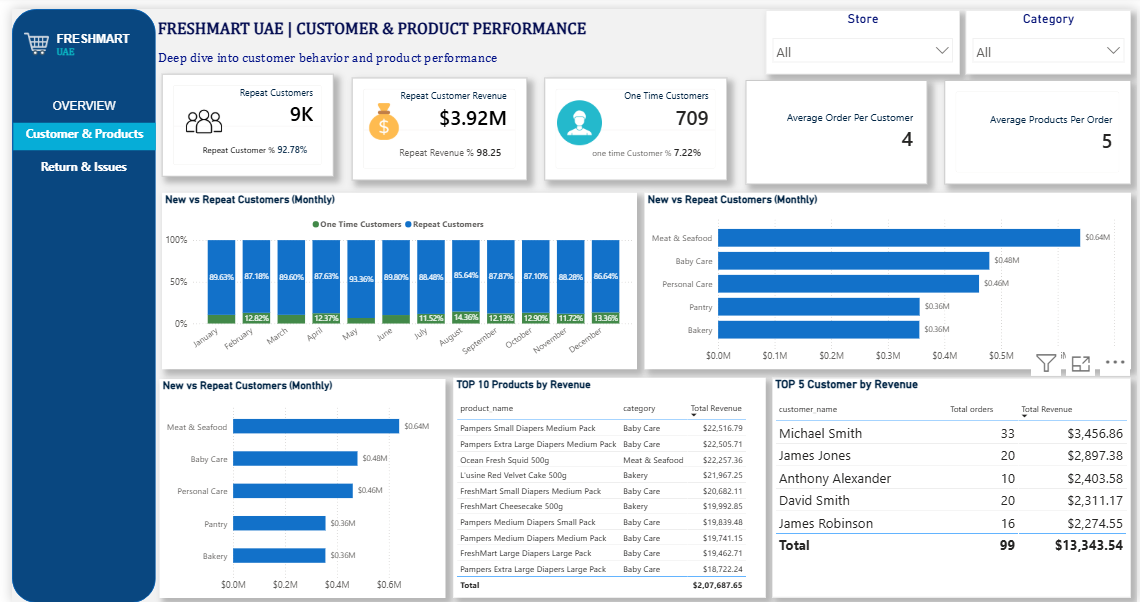

The page's visual inventory and layout, read from the dashboard file:
{"tool":"powerbi","page":{"name":"Customer & Products ","canvas":[1800,950],"ordinal":1},"visuals":[{"type":"shape","box":[0,0,230,950],"z":0},{"type":"textbox","box":[0,140,230,31.4],"z":1000},{"type":"textbox","box":[2,182,228,44],"z":2000},{"type":"textbox","box":[2,234,230,42],"z":3000},{"type":"textbox","box":[66,32,152,72],"z":4000},{"type":"image","box":[12,36,54,40],"z":5000},{"type":"textbox","box":[228,12,700,104],"z":6000},{"type":"slicer","title":"Store","fields":{"Values":["stores.store_name"]},"box":[1205,2.5,310,102.5],"z":8000},{"type":"slicer","title":"Category","fields":{"Values":["products.category"]},"box":[1526,2,264,102],"z":9000},{"type":"cardVisual","fields":{"Data":["order_items.Average products per order"]},"box":[1492,114,298,166],"z":10000},{"type":"cardVisual","fields":{"Data":["customers.average order per customer"]},"box":[1173,114,290,166],"z":11000},{"type":"cardVisual","fields":{"Data":["customers.One Time Customers"]},"box":[852,110,292,164],"z":12000},{"type":"cardVisual","fields":{"Data":["order_items.repeat customer revenue"]},"box":[543,110,280,164],"z":13000},{"type":"cardVisual","fields":{"Data":["customers.Repeat Customers"]},"box":[240,104,274,164],"z":14000},{"type":"hundredPercentStackedColumnChart","title":"New vs Repeat Customers (Monthly)","fields":{"Category":["orders.order_date.Variation.Date Hierarchy.Month"],"Y":["customers.One Time Customers","customers.Repeat Customers"]},"box":[240,294,760,282],"z":15000},{"type":"clusteredBarChart","title":"New vs Repeat Customers (Monthly)","fields":{"Category":["products.category"],"Y":["order_items.Total Revenue"]},"box":[1012,294,778,282],"z":16000},{"type":"clusteredBarChart","title":"New vs Repeat Customers (Monthly)","fields":{"Category":["products.category"],"Y":["order_items.Total Revenue"]},"box":[235,592.5,457.5,350],"z":17000},{"type":"tableEx","title":"TOP 10 Products by Revenue ","fields":{"Values":["products.product_name","products.category","order_items.Total Revenue"]},"box":[706,590,500,352],"z":18000},{"type":"tableEx","title":"TOP 5 Customer by Revenue","fields":{"Values":["customers.customer_name","orders.Total orders","order_items.Total Revenue"]},"box":[1216,590,574,352],"z":19000},{"type":"image","box":[852,146,112,72],"z":20000},{"type":"image","box":[564,144,62,72],"z":21000},{"type":"image","box":[274,130,66,100],"z":22000}]}

Visuals, with their boxes in screenshot pixels (x1, y1, x2, y2), scaled from the page's 1800x950 canvas onto the 1140x602 screenshot:
shape: x1=0 y1=0 x2=146 y2=601
textbox: x1=0 y1=89 x2=146 y2=109
textbox: x1=1 y1=115 x2=146 y2=143
textbox: x1=1 y1=148 x2=147 y2=175
textbox: x1=42 y1=20 x2=138 y2=66
image: x1=8 y1=23 x2=42 y2=48
textbox: x1=144 y1=8 x2=588 y2=74
"Store" slicer: x1=763 y1=2 x2=960 y2=67
"Category" slicer: x1=966 y1=1 x2=1134 y2=66
cardVisual - order_items.Average products per order: x1=945 y1=72 x2=1134 y2=177
cardVisual - customers.average order per customer: x1=743 y1=72 x2=927 y2=177
cardVisual - customers.One Time Customers: x1=540 y1=70 x2=725 y2=174
cardVisual - order_items.repeat customer revenue: x1=344 y1=70 x2=521 y2=174
cardVisual - customers.Repeat Customers: x1=152 y1=66 x2=326 y2=170
"New vs Repeat Customers (Monthly)" hundredPercentStackedColumnChart: x1=152 y1=186 x2=633 y2=365
"New vs Repeat Customers (Monthly)" clusteredBarChart: x1=641 y1=186 x2=1134 y2=365
"New vs Repeat Customers (Monthly)" clusteredBarChart: x1=149 y1=375 x2=439 y2=597
"TOP 10 Products by Revenue " tableEx: x1=447 y1=374 x2=764 y2=597
"TOP 5 Customer by Revenue" tableEx: x1=770 y1=374 x2=1134 y2=597
image: x1=540 y1=93 x2=611 y2=138
image: x1=357 y1=91 x2=396 y2=137
image: x1=174 y1=82 x2=215 y2=146
